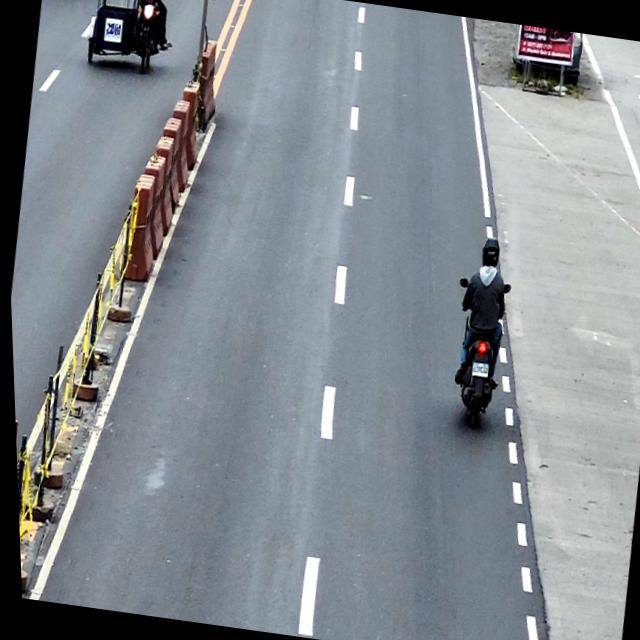License-Plate: (469, 362, 486, 378)
Motorcycle: (437, 275, 514, 434)
Tricycle: (83, 0, 172, 74)
